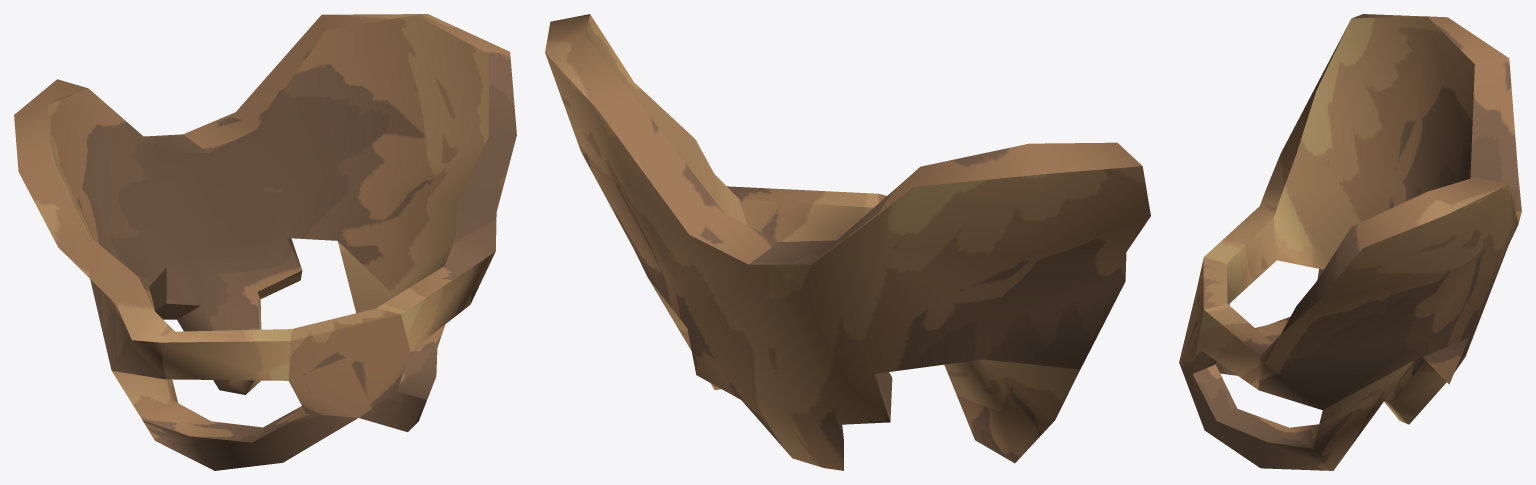
Rendered from SM_PROP_skeleton_pelvis_dungeon.fbx.
3 renders of one model, left to right at view 1: azimuth 30°, elevation 25°; view 2: azimuth 150°, elevation 25°; view 3: azimuth 270°, elevation 25°, orthographic. The views are drawn at different scales.
Parts seen in each view (by area): view 1: SM_PROP_skeleton_pelvis_dungeon; view 2: SM_PROP_skeleton_pelvis_dungeon; view 3: SM_PROP_skeleton_pelvis_dungeon.
Part boxes in pixels (x1,y1,x2,y2): SM_PROP_skeleton_pelvis_dungeon: [14, 14, 516, 470]; SM_PROP_skeleton_pelvis_dungeon: [545, 14, 1150, 470]; SM_PROP_skeleton_pelvis_dungeon: [1179, 14, 1521, 470].
Size of the model in its own units: 27.67 by 17.45 by 17.12.
